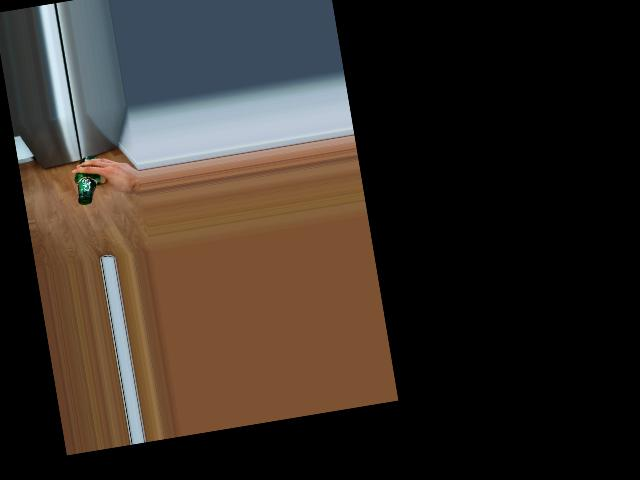beer: (71, 155, 105, 206)
